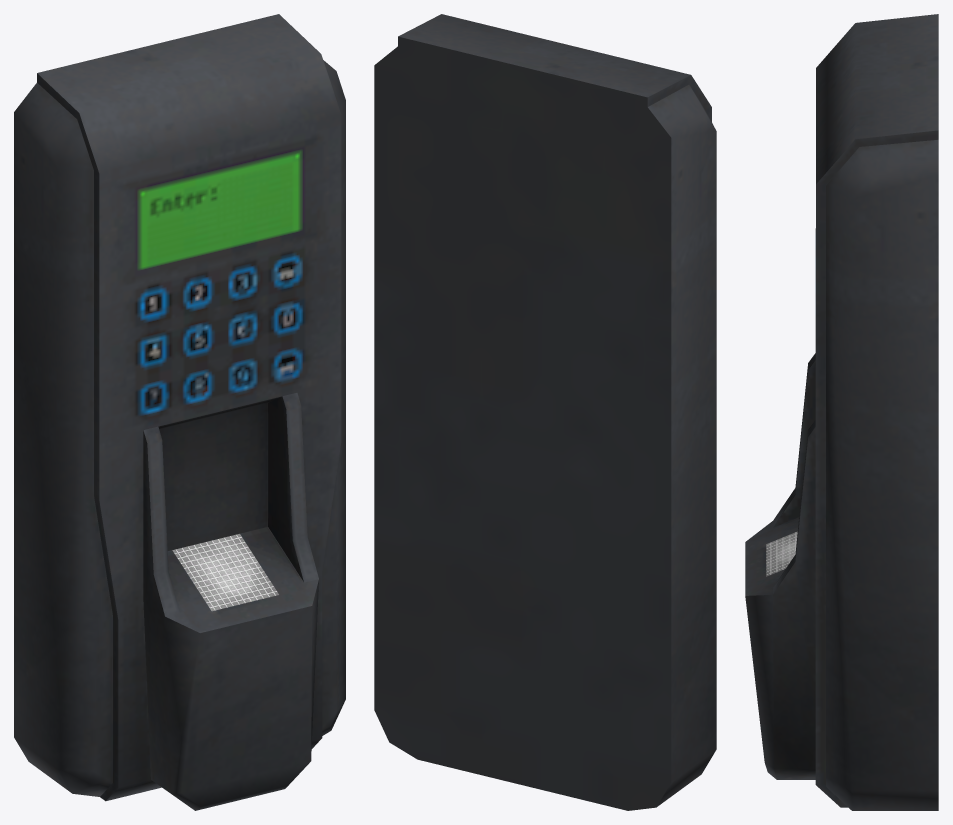
File: ctl_biometric_lock_lod2.glb
3 renders of one model, left to right at view 1: azimuth 30°, elevation 25°; view 2: azimuth 150°, elevation 25°; view 3: azimuth 270°, elevation 25°, orthographic. The views are drawn at different scales.
Parts seen in each view (by area): view 1: surf0, surf1; view 2: surf0; view 3: surf0, surf1.
Part boxes in pixels (x1,y1,x2,y2): surf0: (14, 14, 345, 810); surf1: (172, 533, 278, 611); surf0: (374, 14, 716, 810); surf0: (745, 14, 938, 810); surf1: (766, 531, 797, 576).
Bounding box in the file's own units: 5.15 × 11.91 × 3.04.
